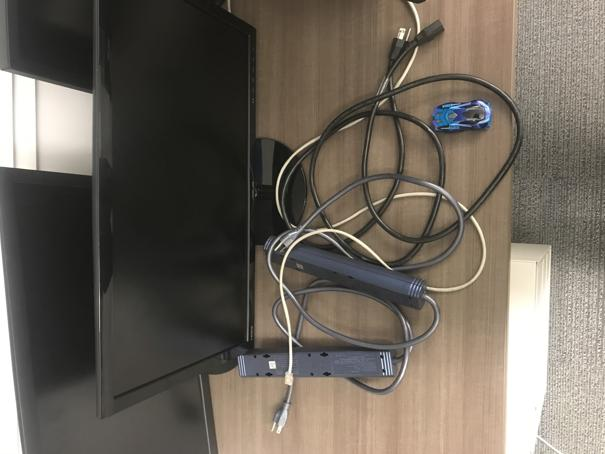Shock: (432, 99, 493, 135)
